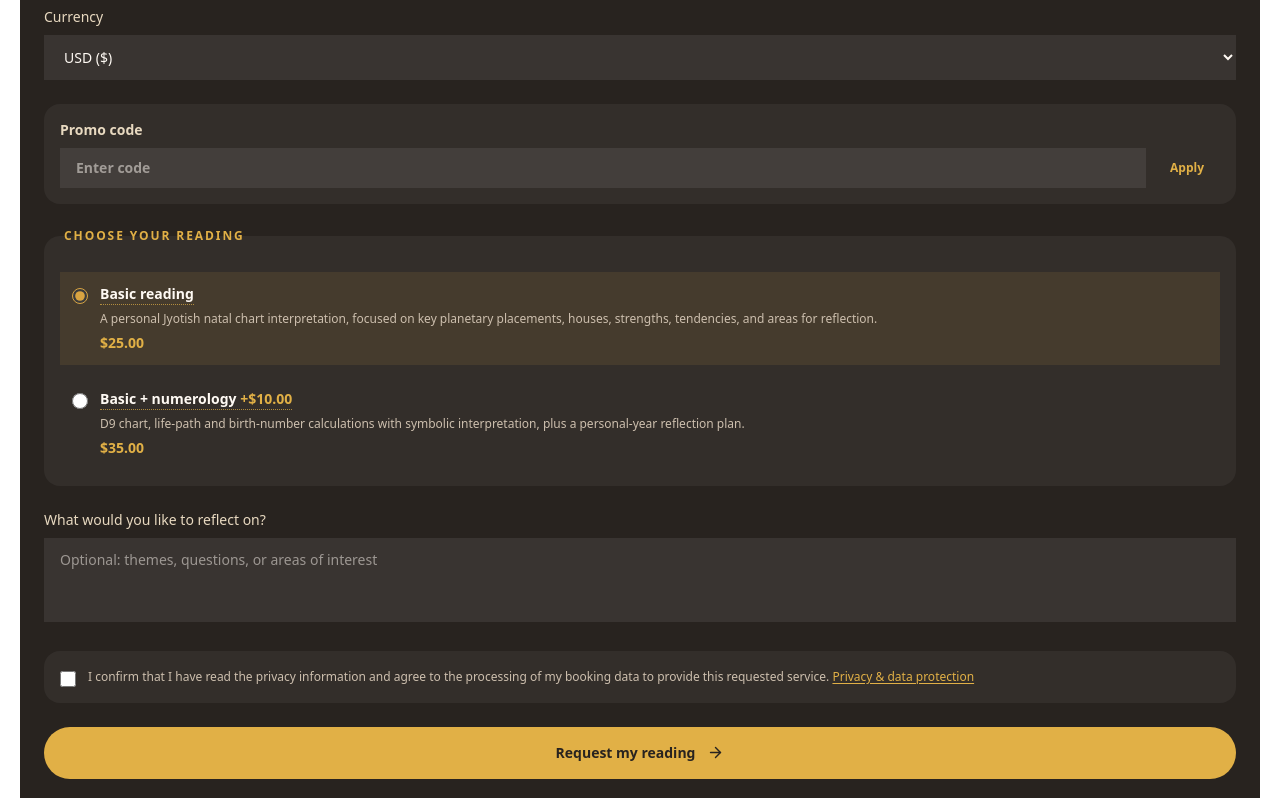
Test: Home booking payment UX › validates a promo code and updates the live total and included services
(page scrolled)
Click the radio button labelled "Basic + numerology": (80, 401) x1=72 y1=393 x2=88 y2=409
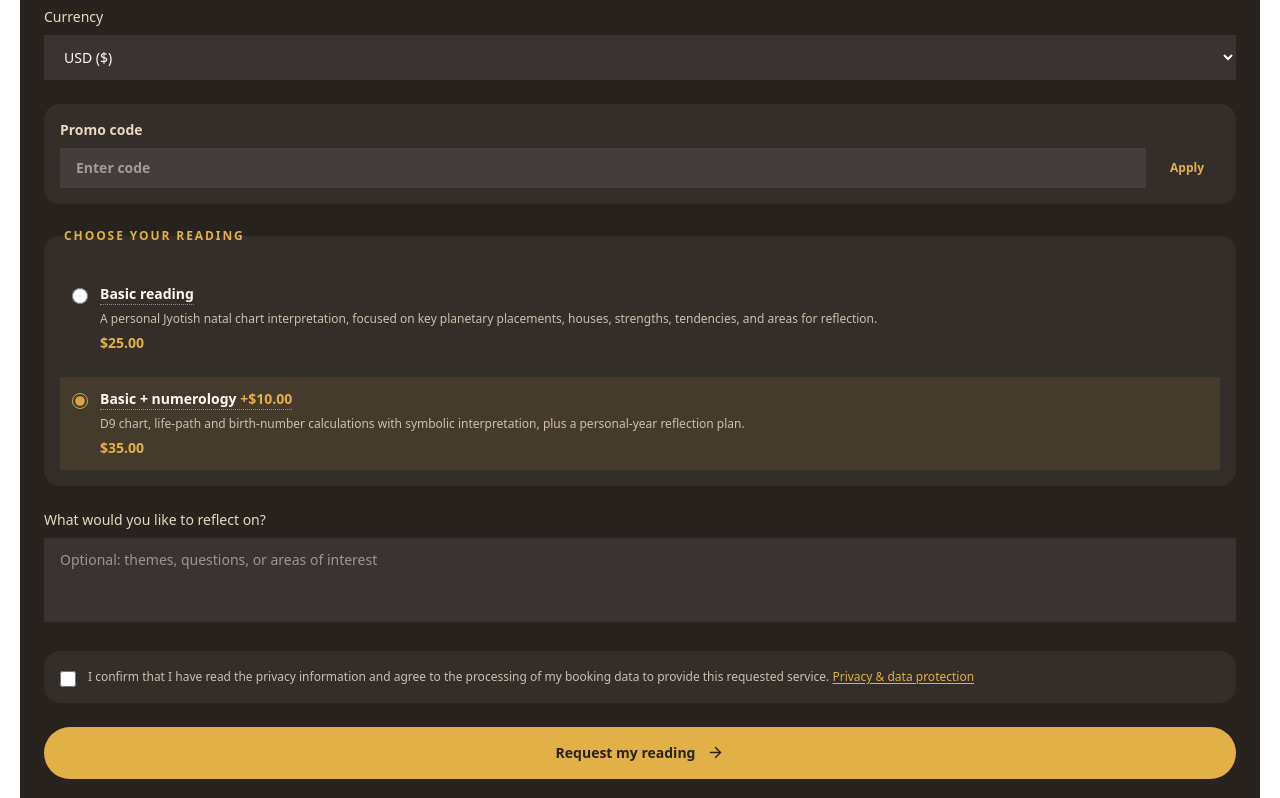
In the field labelled "Promo code": (603, 168) x1=60 y1=148 x2=1146 y2=188, type "WELCOME10"
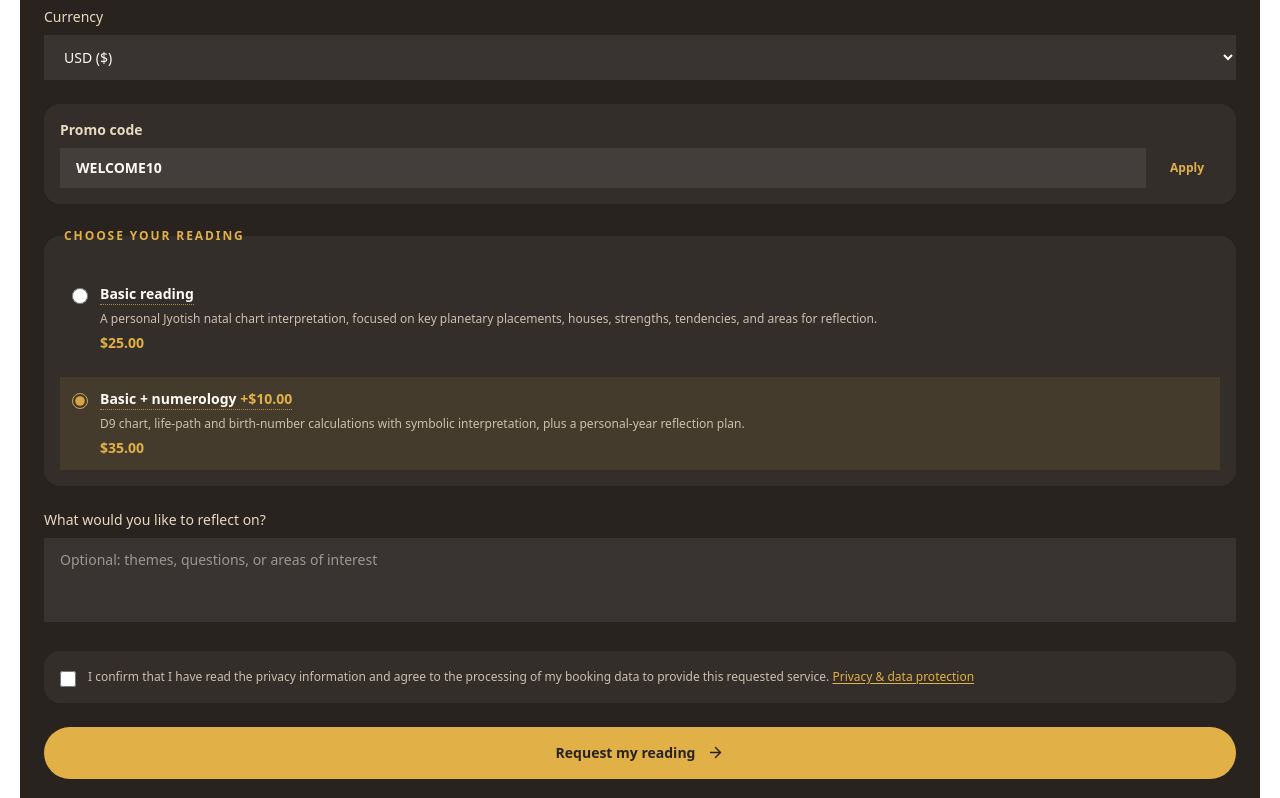
Click the button "Apply": (1187, 168) x1=1154 y1=148 x2=1220 y2=188
(page scrolled)
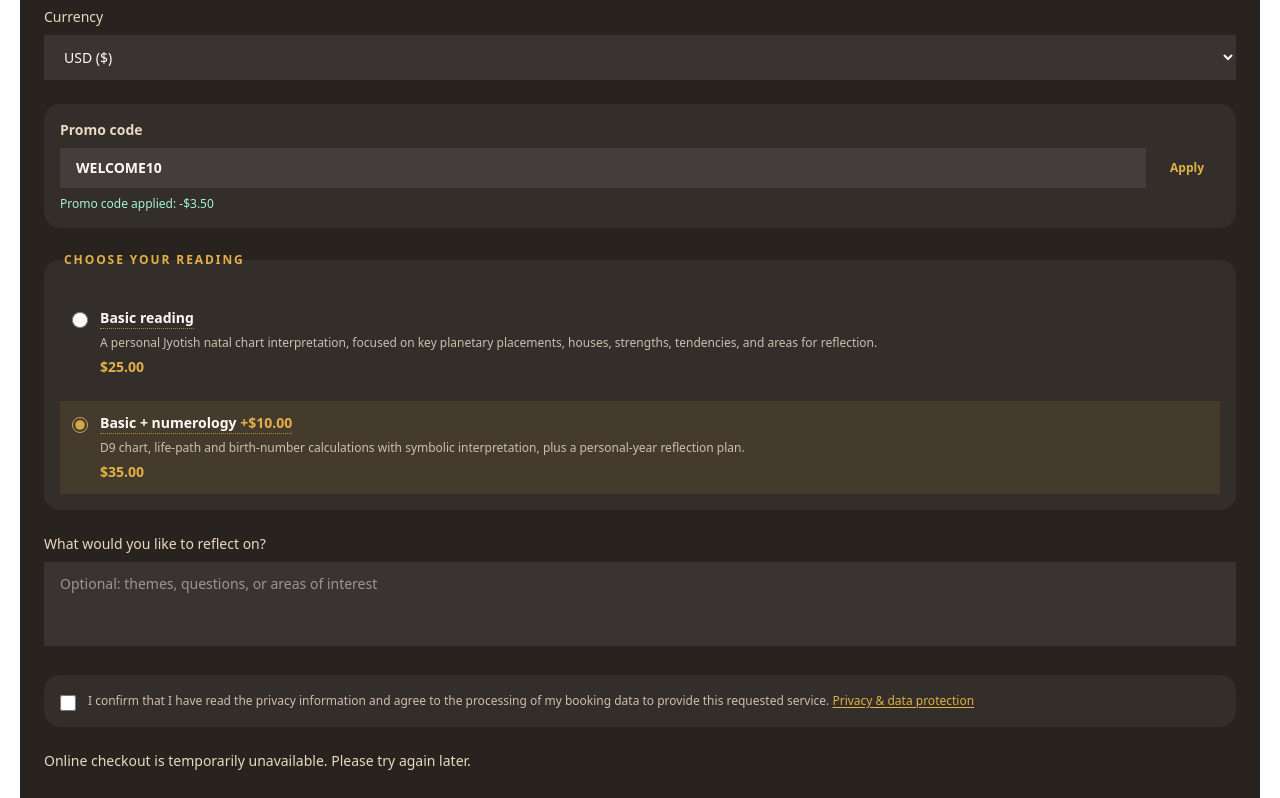
Result: the message with test id "applied-promo-status" shows "Promo code applied" at x1=60 y1=195 x2=173 y2=212
